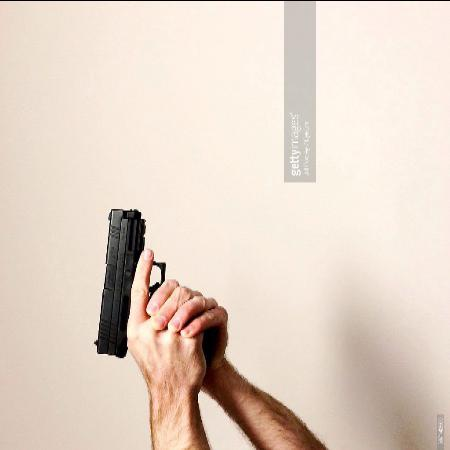Pistol: (88, 208, 166, 356)
